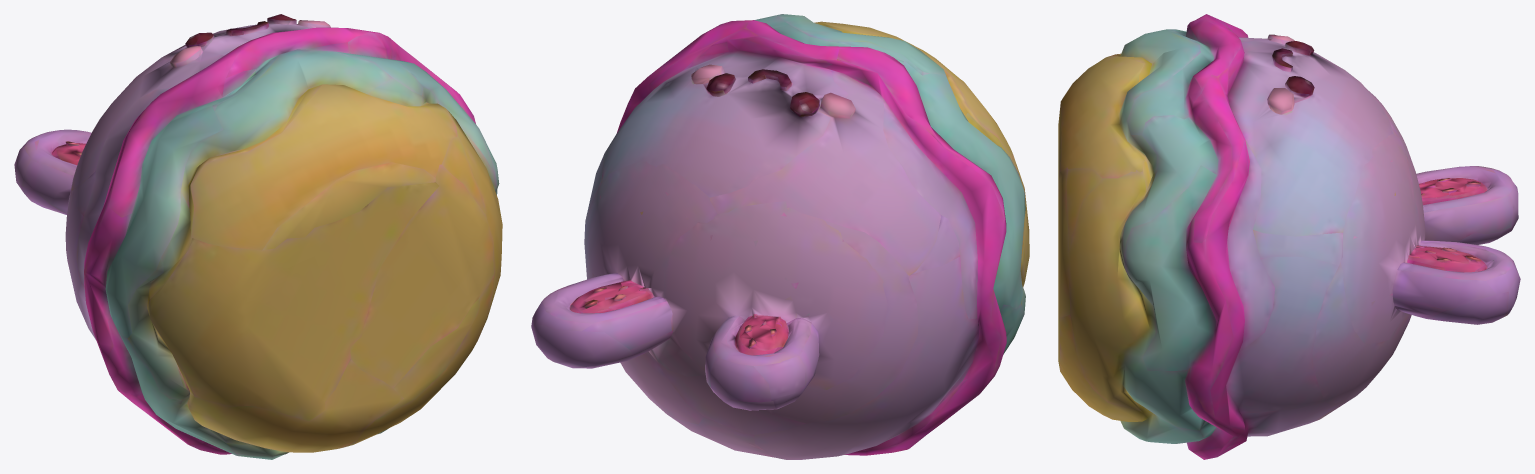
The picture shows the model from 3 angles, left to right: view 1: azimuth 30°, elevation 25°; view 2: azimuth 150°, elevation 25°; view 3: azimuth 270°, elevation 25°; orthographic projection. The views are drawn at different scales.
Visible parts, largest first — view 1: material; view 2: material; view 3: material.
Boxes of the visible parts, box(x1,y1,x2,y2) form: material: box(14, 14, 502, 459); material: box(531, 14, 1029, 459); material: box(1058, 14, 1520, 459).
Bounding box in the file's own units: 0.9255 × 0.9248 × 1.
1 material, 1 textured.
